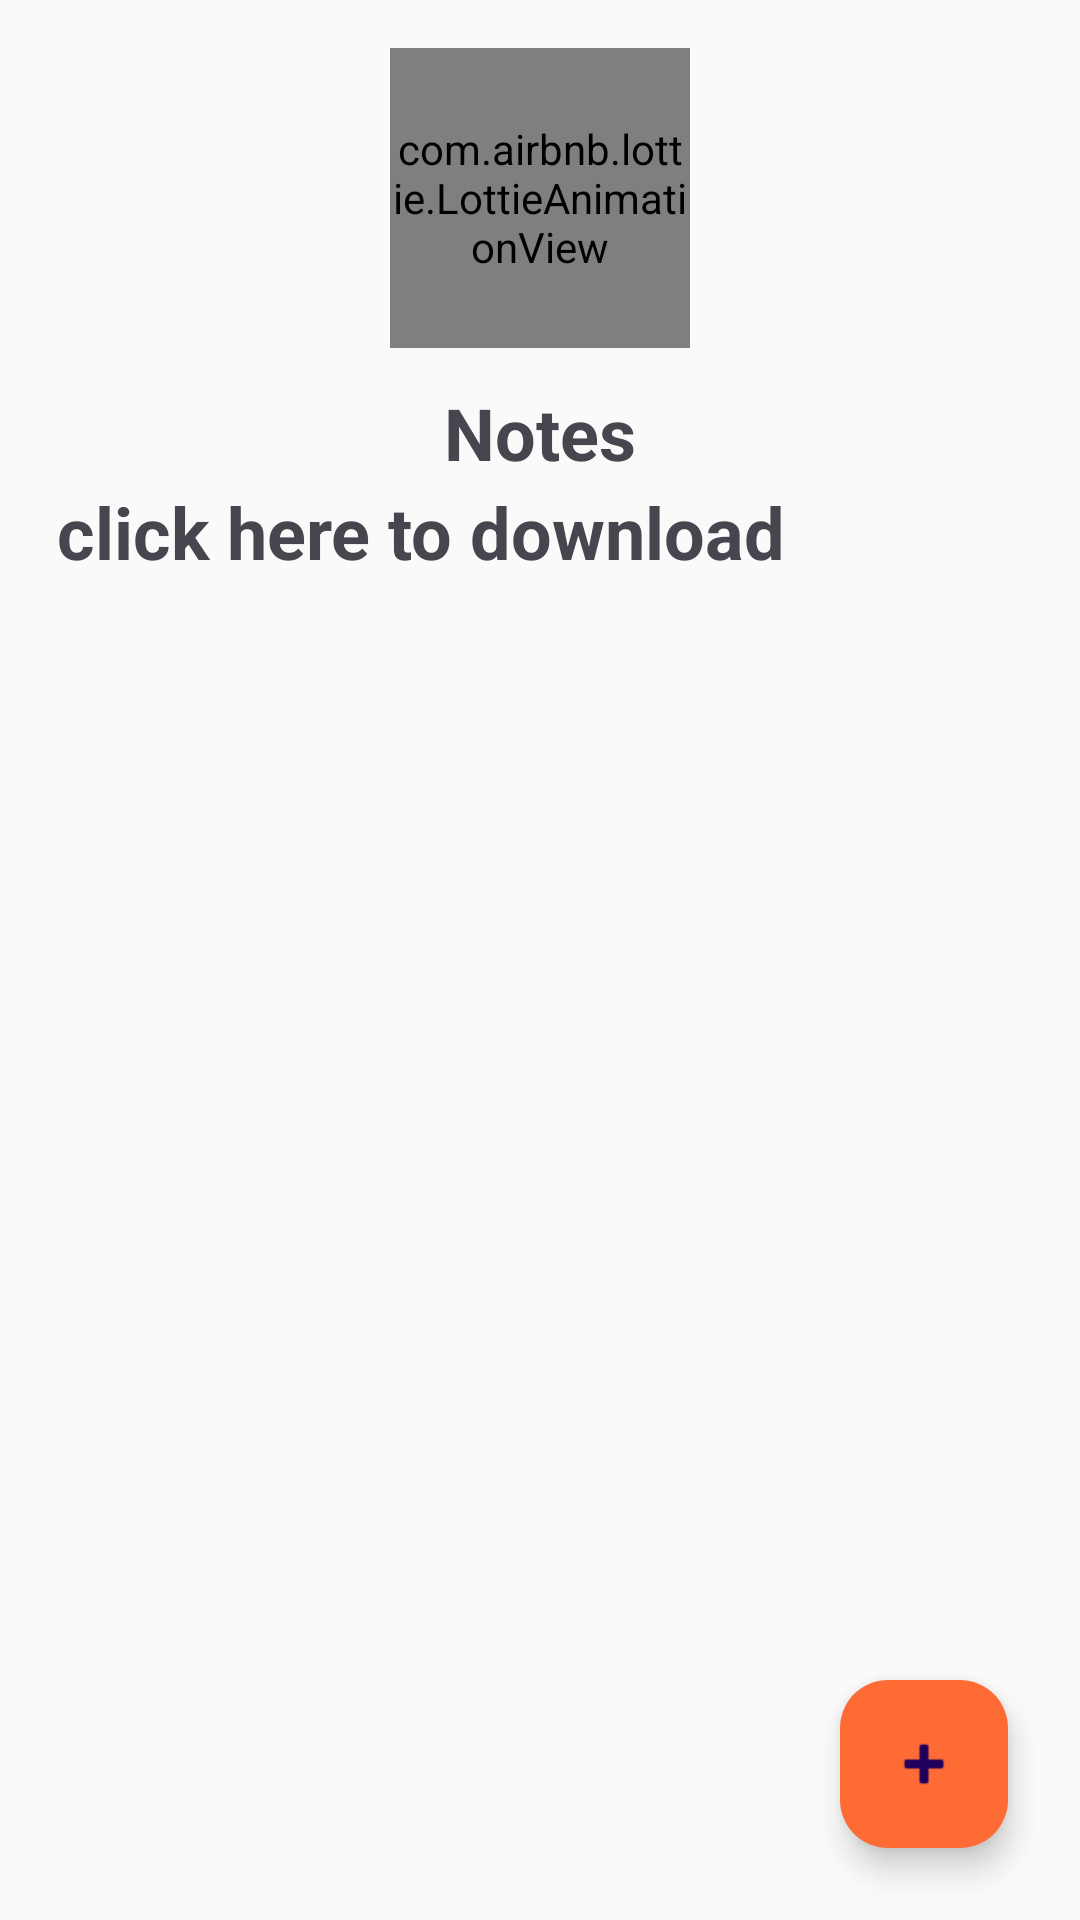

Screen size 1080px×1920px. Icon name, then its center in pixels as point (x, y):
Add Note: point (924, 1764)
